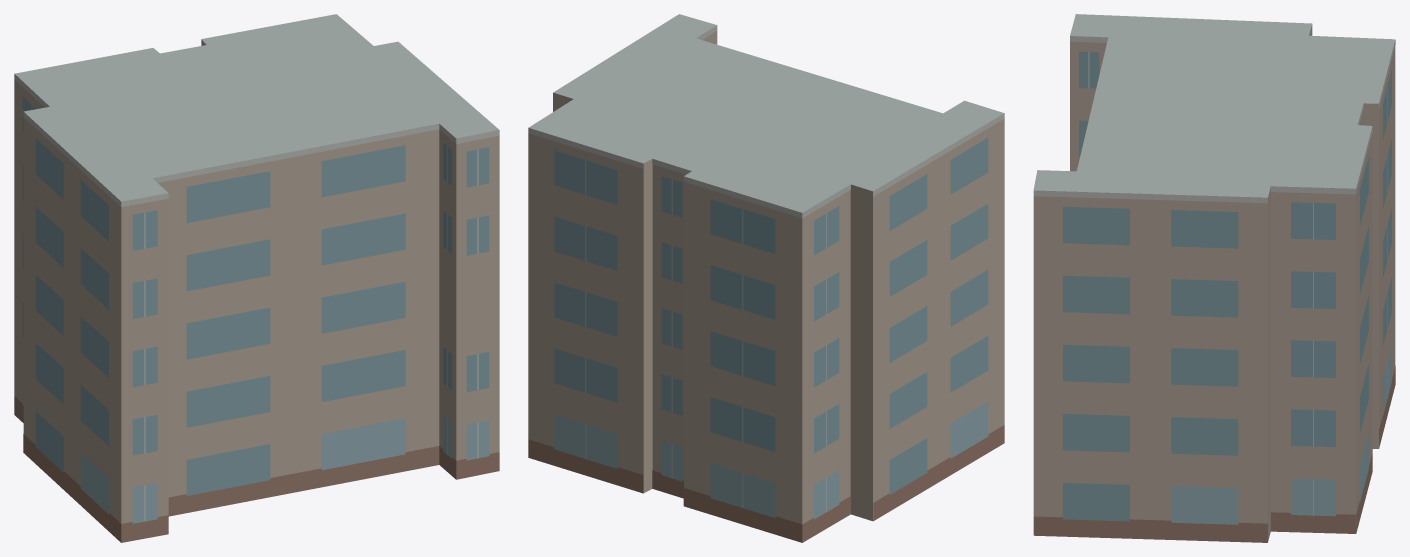
Rendered from survey-upis-32984976.glb.
3 renders of one model, left to right at view 1: azimuth 30°, elevation 25°; view 2: azimuth 150°, elevation 25°; view 3: azimuth 270°, elevation 25°, orthographic. The views are drawn at different scales.
Parts seen in each view (by area): view 1: survey-upis-32984976.tmp; view 2: survey-upis-32984976.tmp; view 3: survey-upis-32984976.tmp.
Part boxes in pixels (x1=…): survey-upis-32984976.tmp: x1=14, y1=14, x2=499, y2=542; survey-upis-32984976.tmp: x1=528, y1=14, x2=1004, y2=542; survey-upis-32984976.tmp: x1=1033, y1=14, x2=1395, y2=542.
Bounding box in the file's own units: 16.89 × 14.8 × 14.08.
